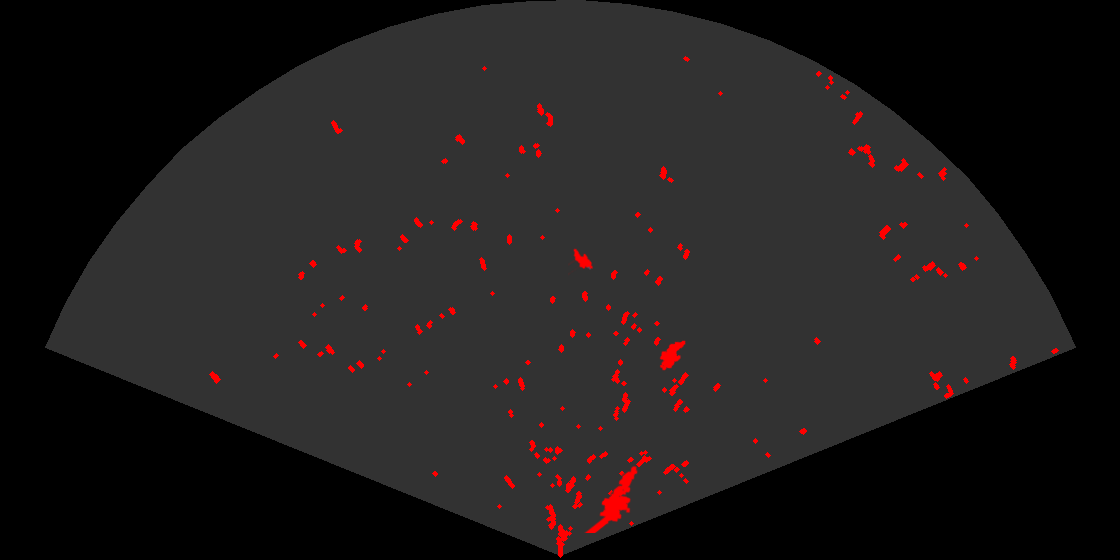AUV: (658, 339, 687, 372), (568, 247, 595, 276)
frogman: (584, 464, 639, 533)
